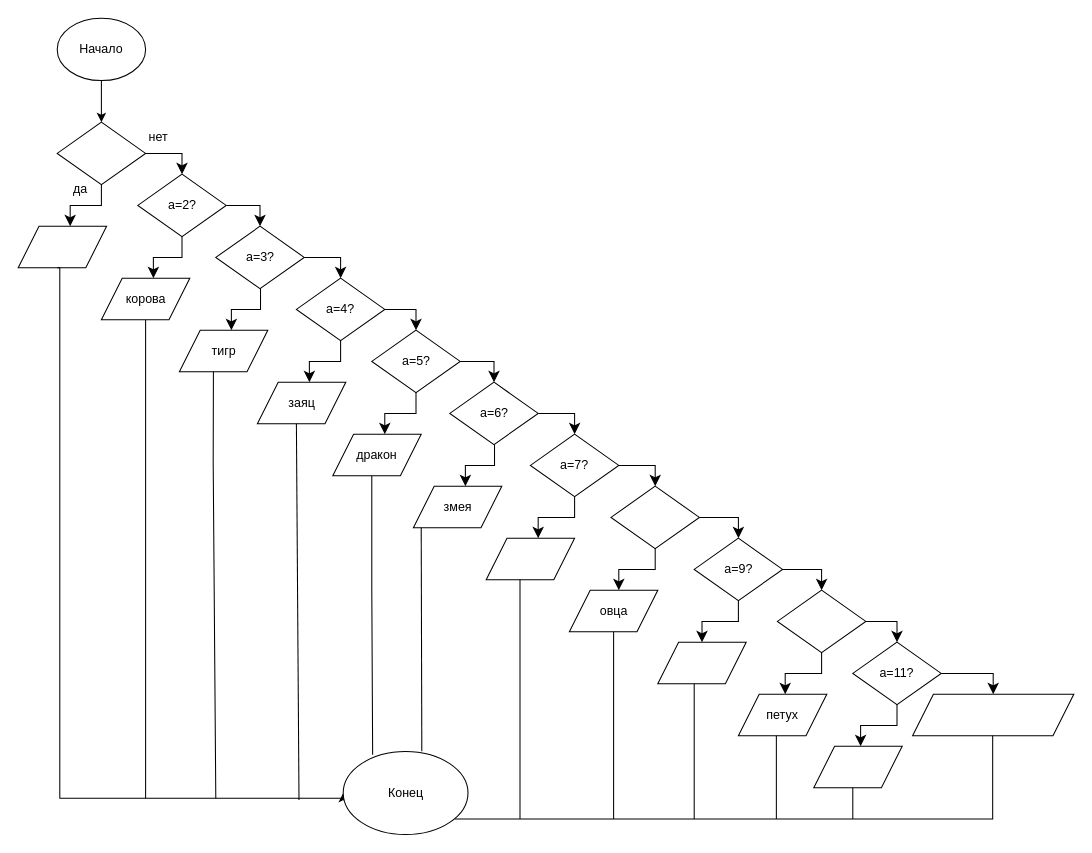
Image size: 1092x853. Some labels were removed from this diagram. Here are the shapes that lost their labels. From the top down, the box of each, then its label:
(56, 121, 146, 185): a=1?
(17, 225, 107, 268): крыса
(610, 485, 699, 549): а=8?
(485, 537, 575, 580): лошадь
(776, 589, 866, 653): a=10?
(657, 641, 746, 684): обезьяна
(912, 693, 1074, 736): Неизвестный символ
(813, 745, 902, 788): собака
